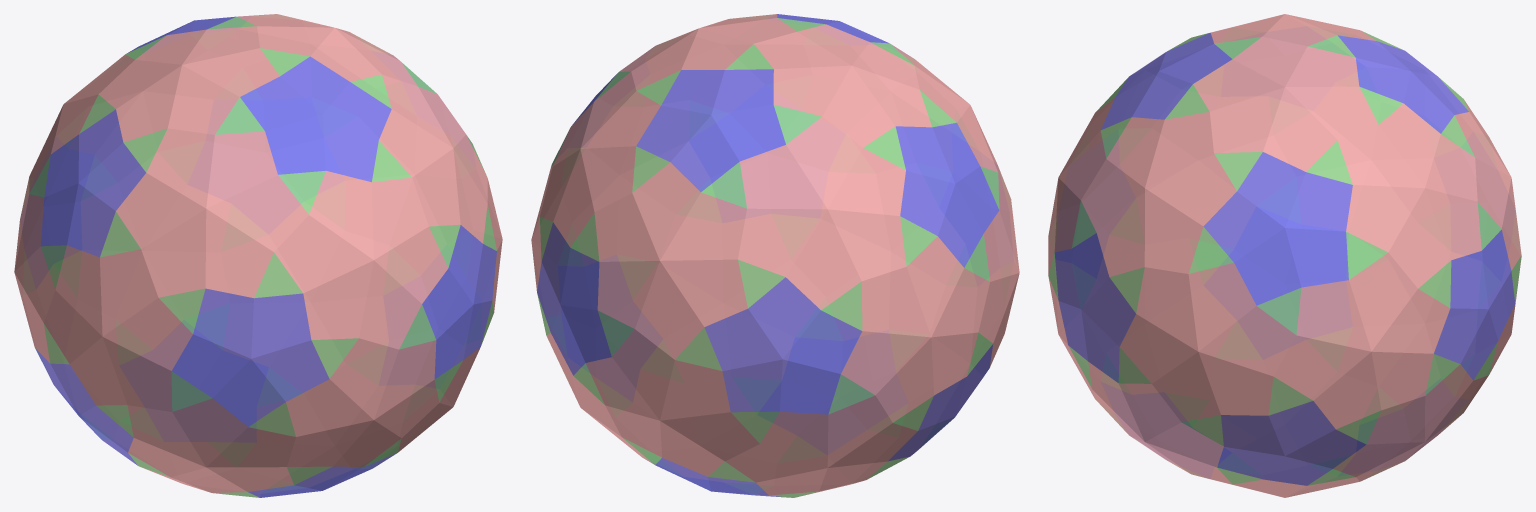
File: PropellorPentakisDodecahedron.obj
3 views of the same model, side by side, from view 1: azimuth 30°, elevation 25°; view 2: azimuth 150°, elevation 25°; view 3: azimuth 270°, elevation 25° (orthographic).
Bounding box in the file's own units: 2 × 2 × 2.
